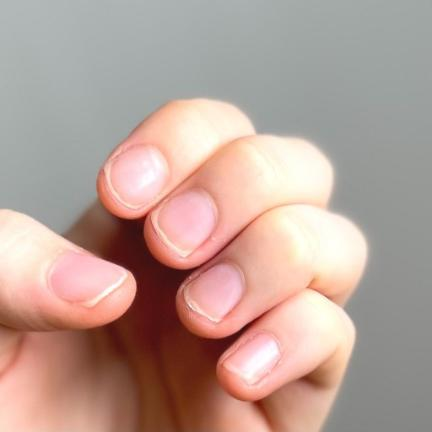Nail: (45, 247, 129, 307), (150, 188, 218, 259), (104, 146, 173, 212), (182, 261, 246, 323), (223, 334, 283, 386)
